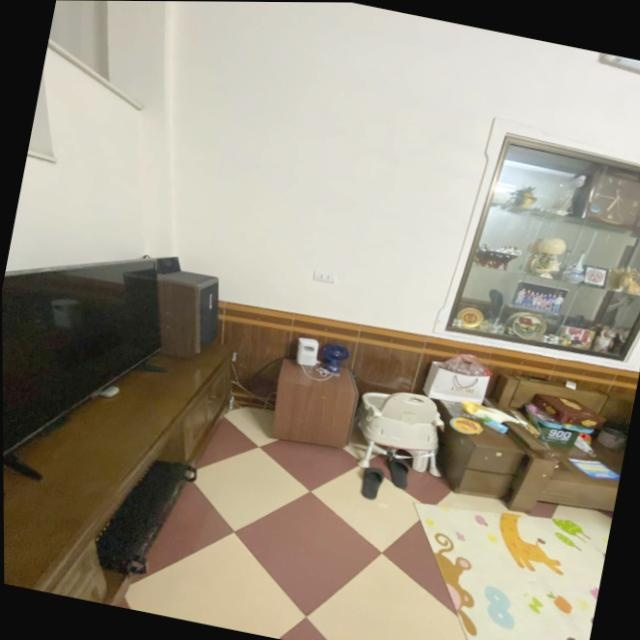outlet: (311, 269, 337, 284)
